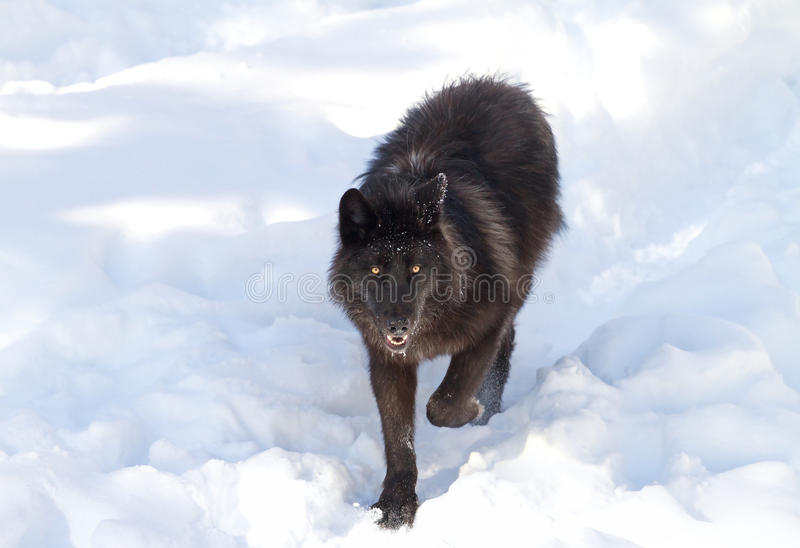Lobo: (310, 64, 563, 525)
